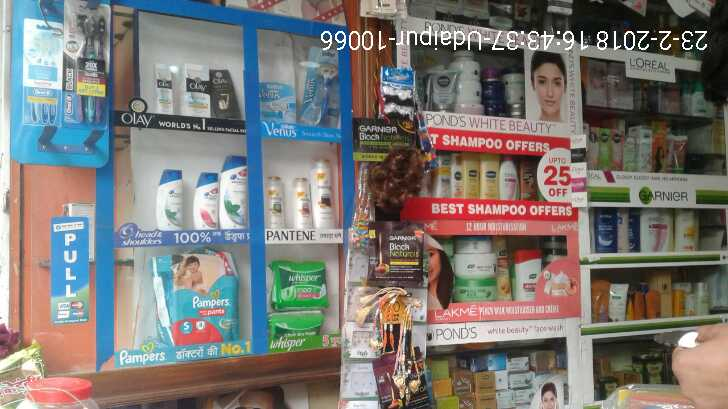venus: (301, 48, 337, 127), (263, 84, 296, 125)
